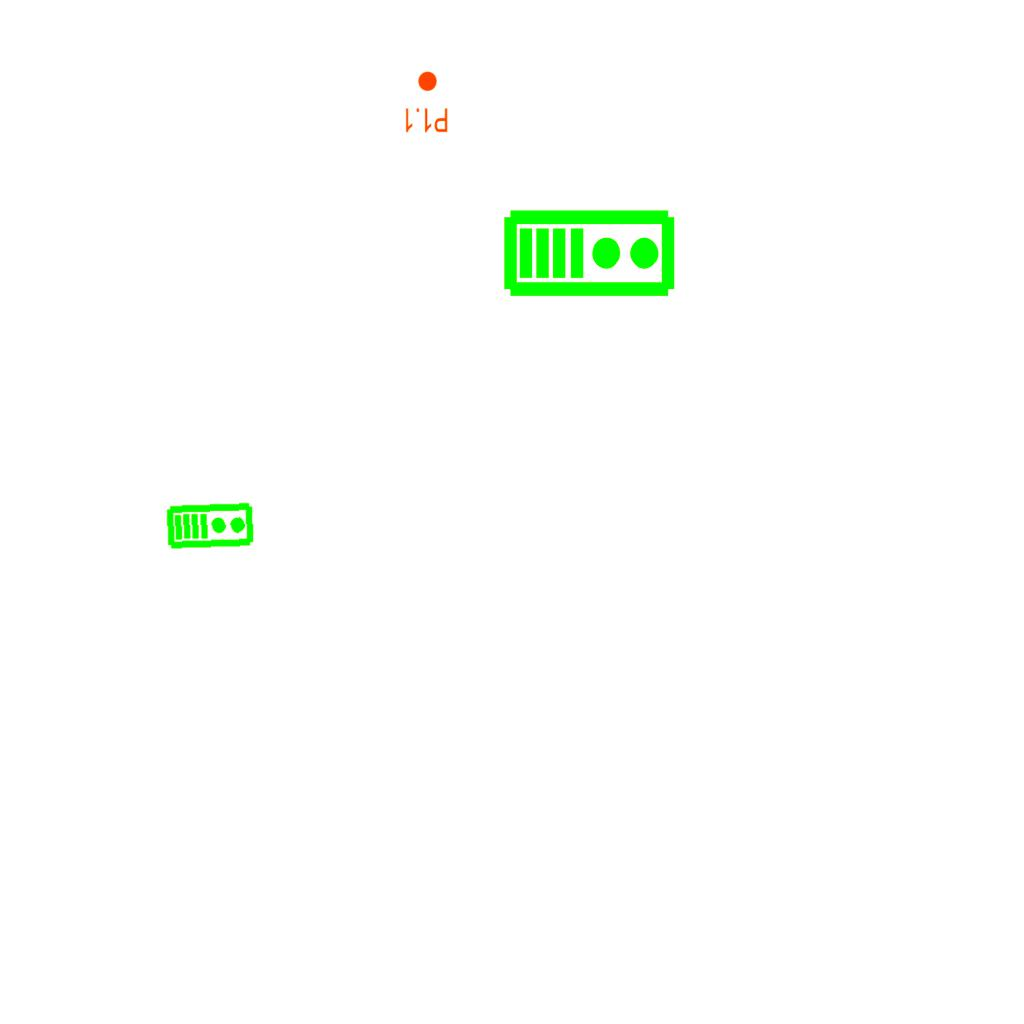Downlight_LED_Einbauleuchten_Flur: (403, 70, 449, 134)
Gegensprechanlage_mit_Video: (502, 204, 678, 299), (165, 499, 256, 551)
